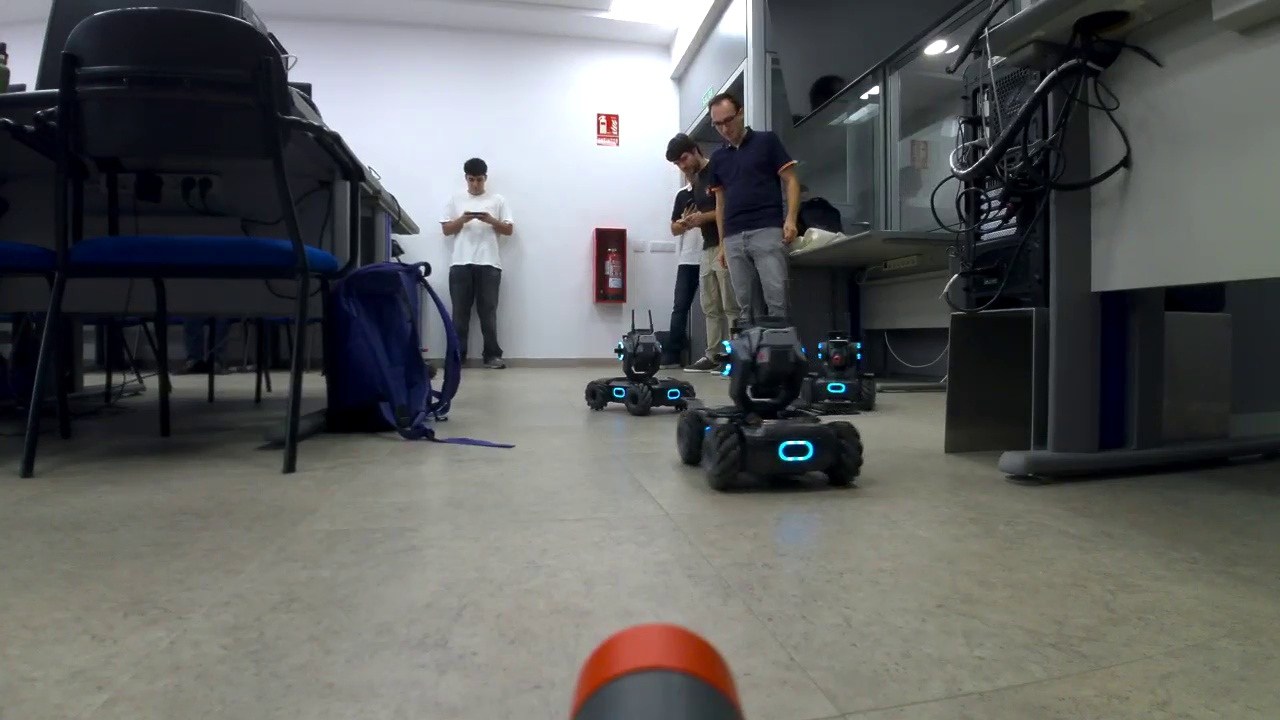robot: (671, 311, 871, 498), (583, 328, 699, 418), (795, 326, 877, 410)
